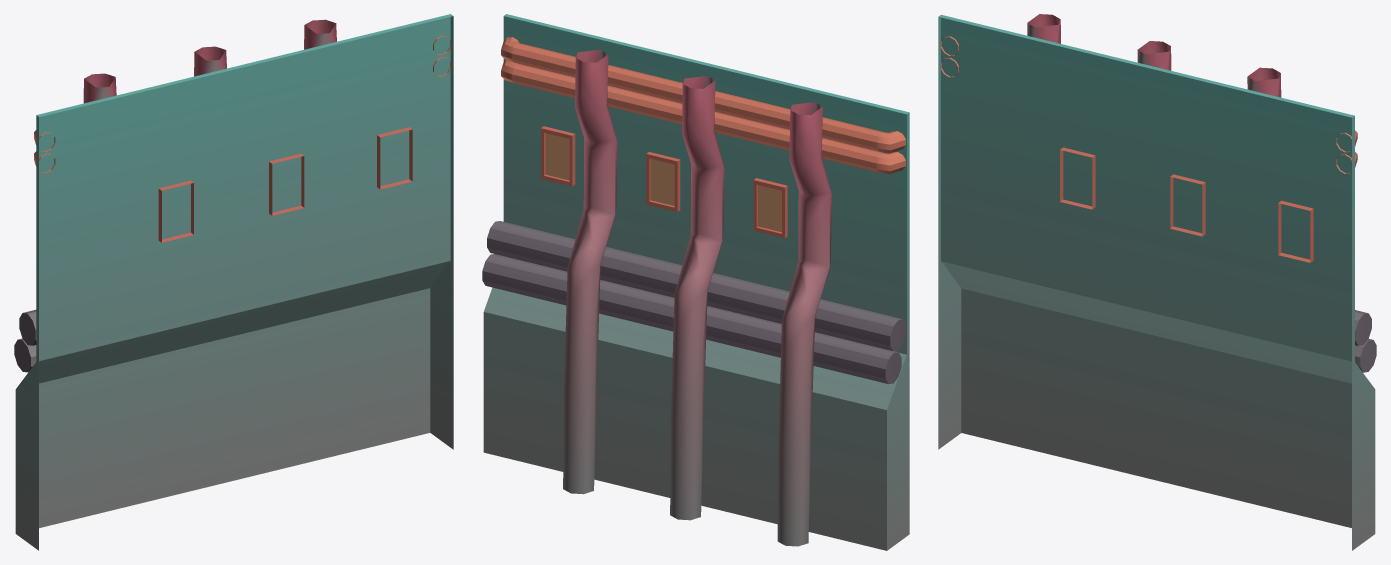
Rendered from Wall-02.fbx.
3 views of the same model, side by side, from view 1: azimuth 30°, elevation 25°; view 2: azimuth 150°, elevation 25°; view 3: azimuth 330°, elevation 25° (orthographic). The views are drawn at different scales.
Parts seen in each view (by area): view 1: nurbsToPoly7; view 2: nurbsToPoly7; view 3: nurbsToPoly7.
Boxes of the visible parts, x1,y1,x2,y2 form: nurbsToPoly7: (14, 14, 453, 550); nurbsToPoly7: (482, 14, 909, 550); nurbsToPoly7: (938, 14, 1376, 550).
Bounding box in the file's own units: 15 × 15 × 2.78.
1 material, 1 textured.
